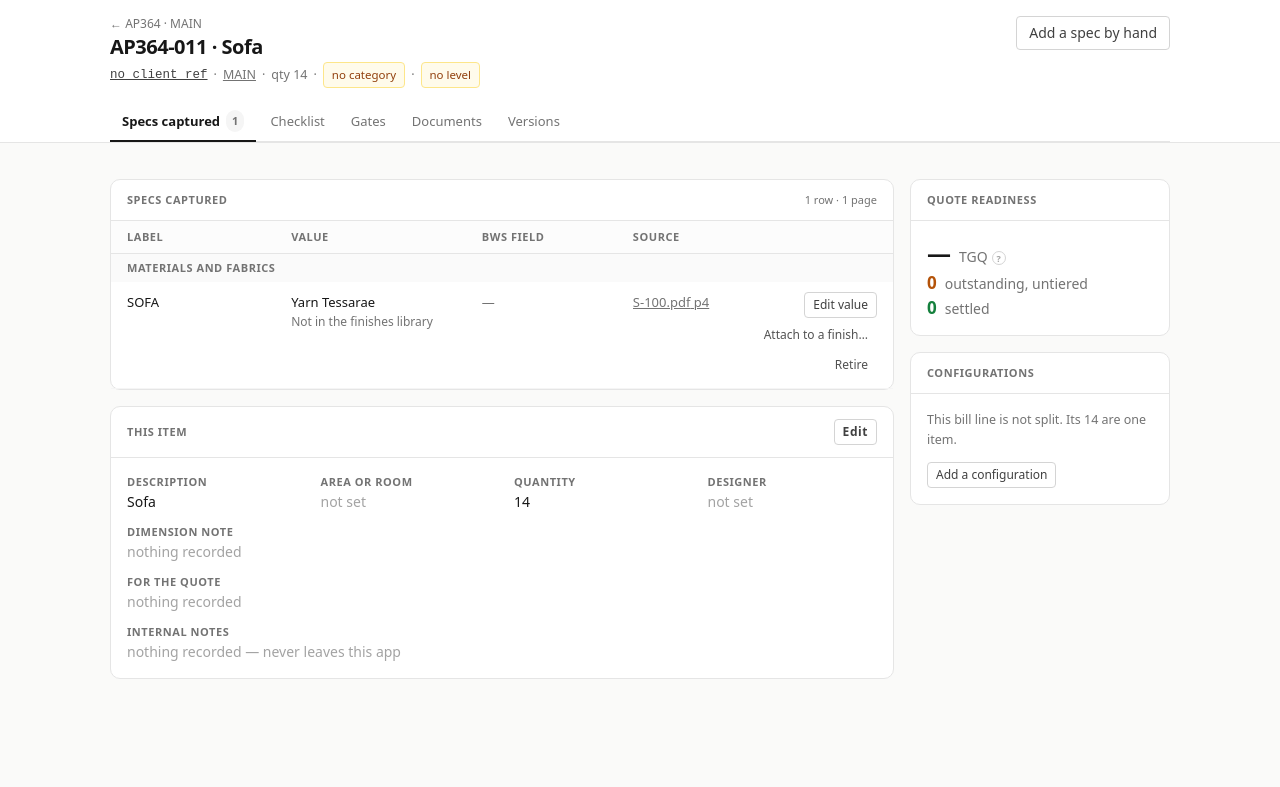
it: correcting a spec from the record › asks for a unit only on a dimension
Click the button "Edit value".
click(841, 305)  # box [804,292,877,318]
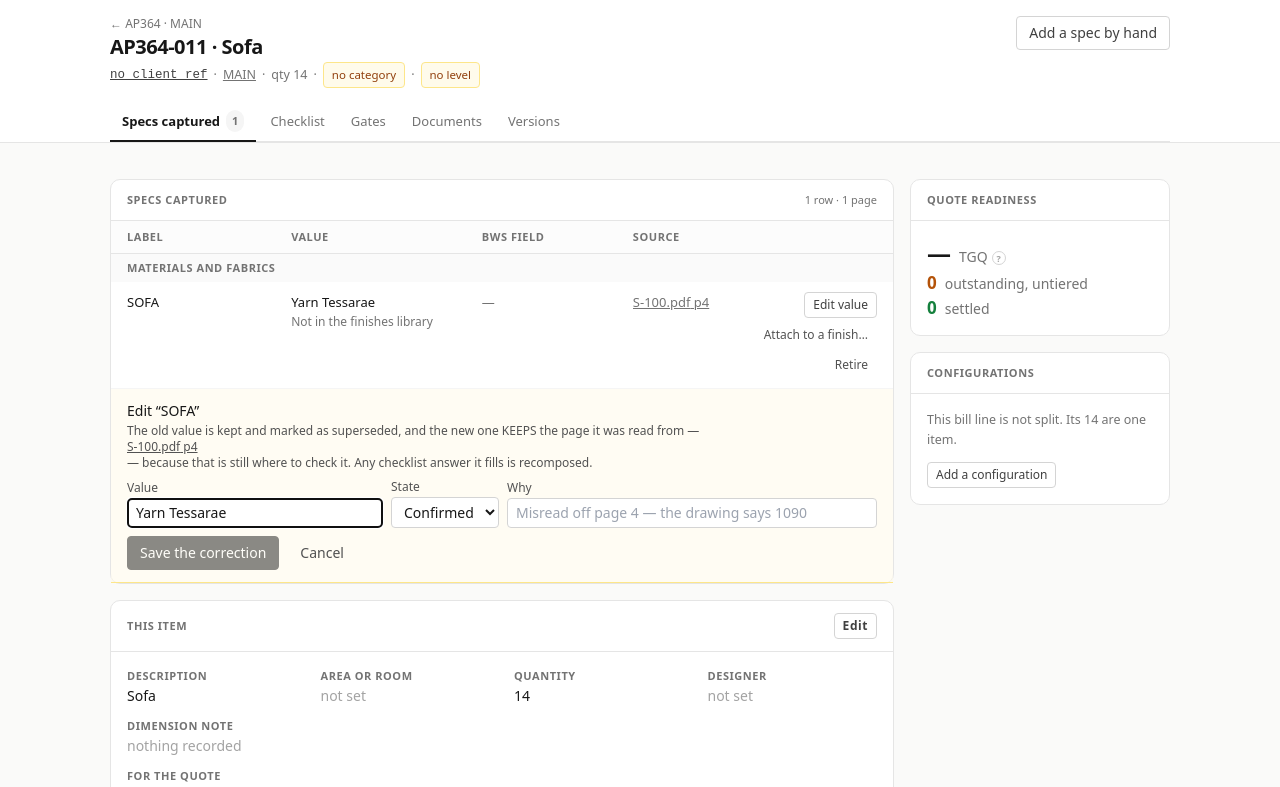
Result: the field labelled "Value" is shown at [127,498,383,528]
